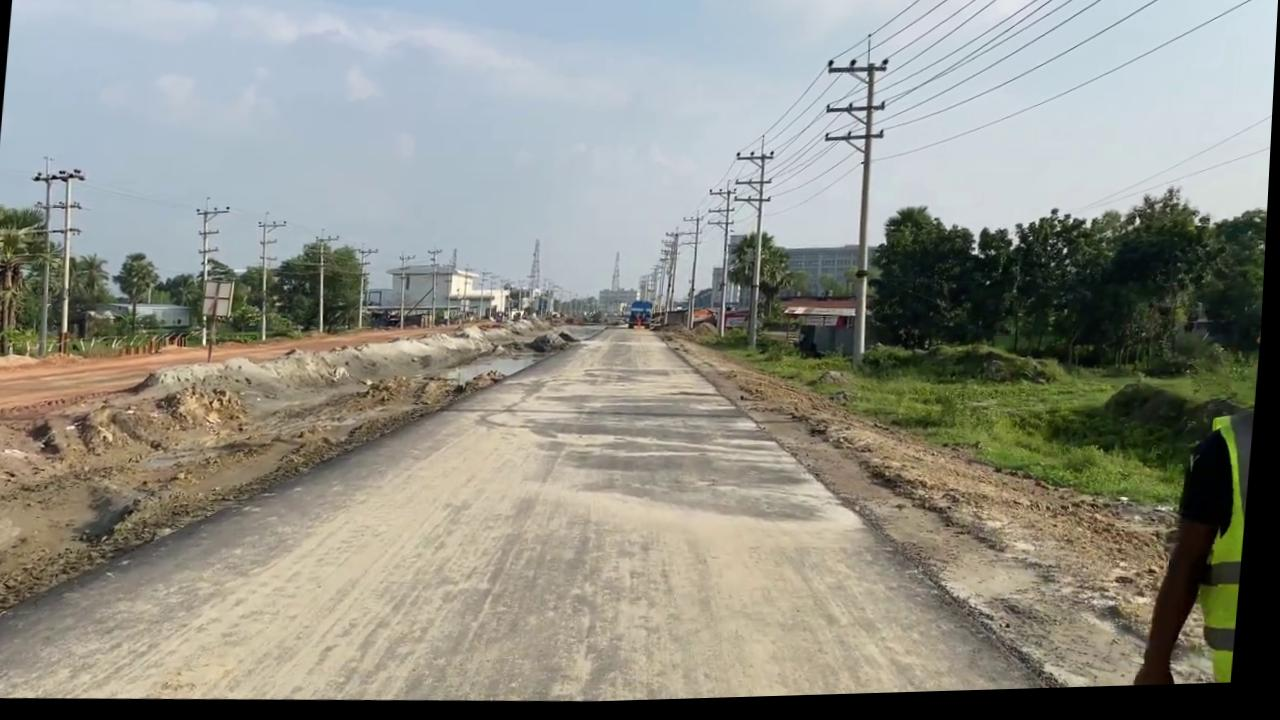Garbage: (0, 294, 586, 650)
Muddy road: (0, 290, 1110, 720)
Pole: (804, 43, 894, 373), (723, 140, 778, 355), (699, 183, 741, 344), (189, 197, 232, 347)
Rickshaw: (634, 315, 1260, 705)
Traffic-sign: (0, 202, 65, 358), (724, 233, 801, 341), (112, 250, 164, 337)
Tree: (631, 302, 658, 333), (694, 311, 721, 333)
